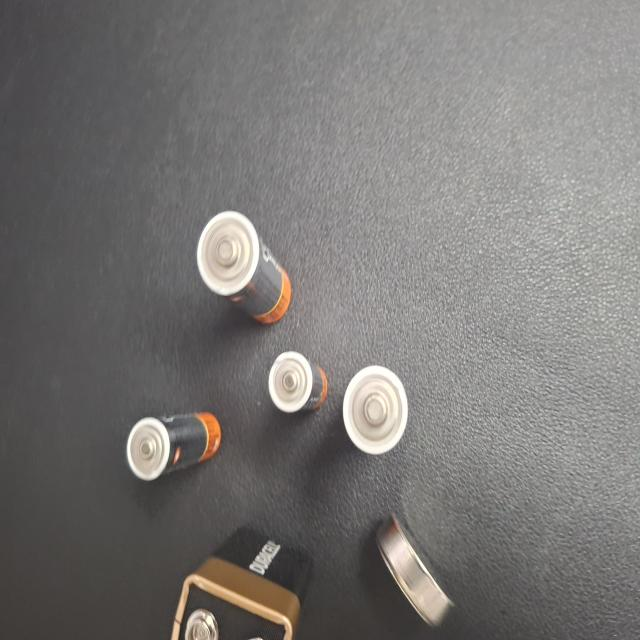9V: (330, 0, 469, 111)
AA: (349, 316, 443, 429), (232, 186, 297, 274)
AAA: (419, 160, 513, 228), (312, 227, 372, 289)
COIN: (187, 14, 264, 125)
